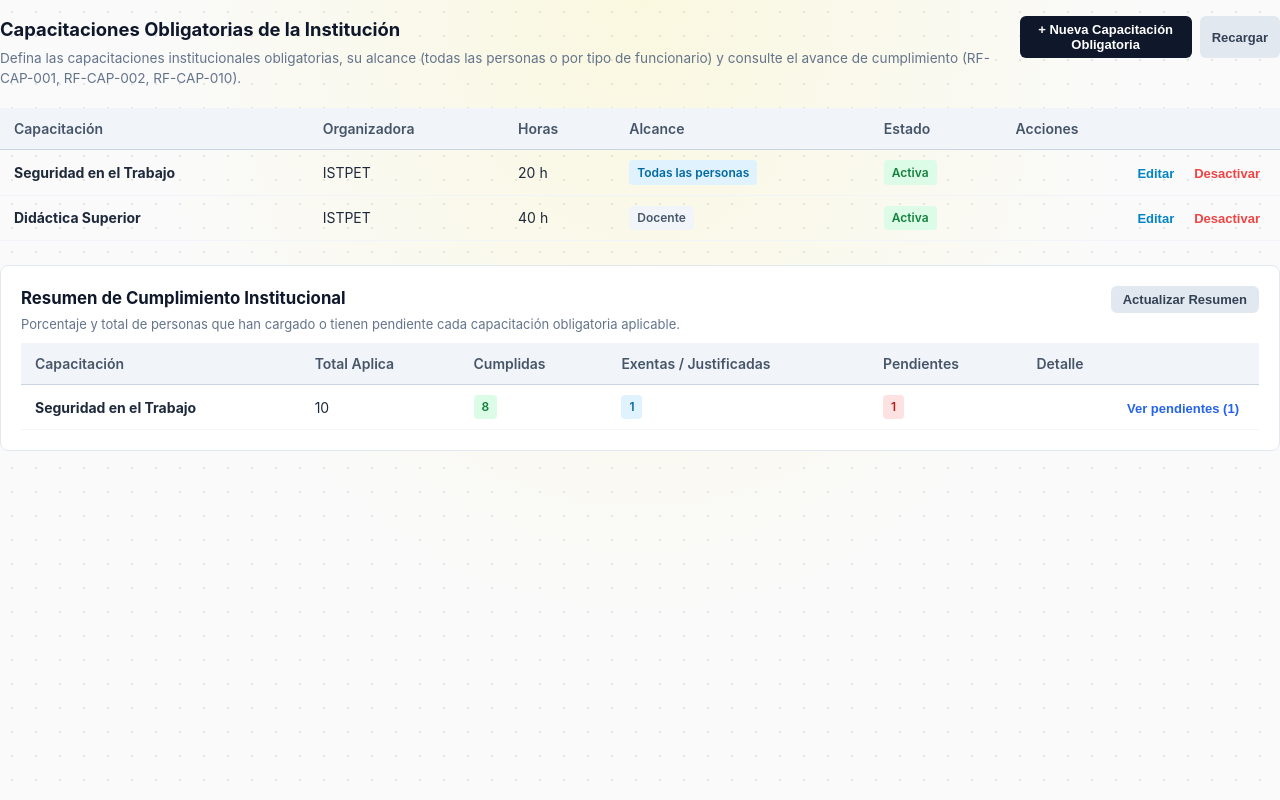
Test: CapacitacionesObligatoriasConfigComponent › resumen_de_cumplimiento_muestra_cifras_y_abre_modal_de_pendientes_RF_CAP_010
This screenshot has width=1280, height=800.
Expected: the table with test id "tabla-cumplimiento" is shown, [21,343,1259,430]
Click the button with test id "btn-ver-pendientes-ob-1". click: (1183, 408)
box: [1121,400,1245,416]
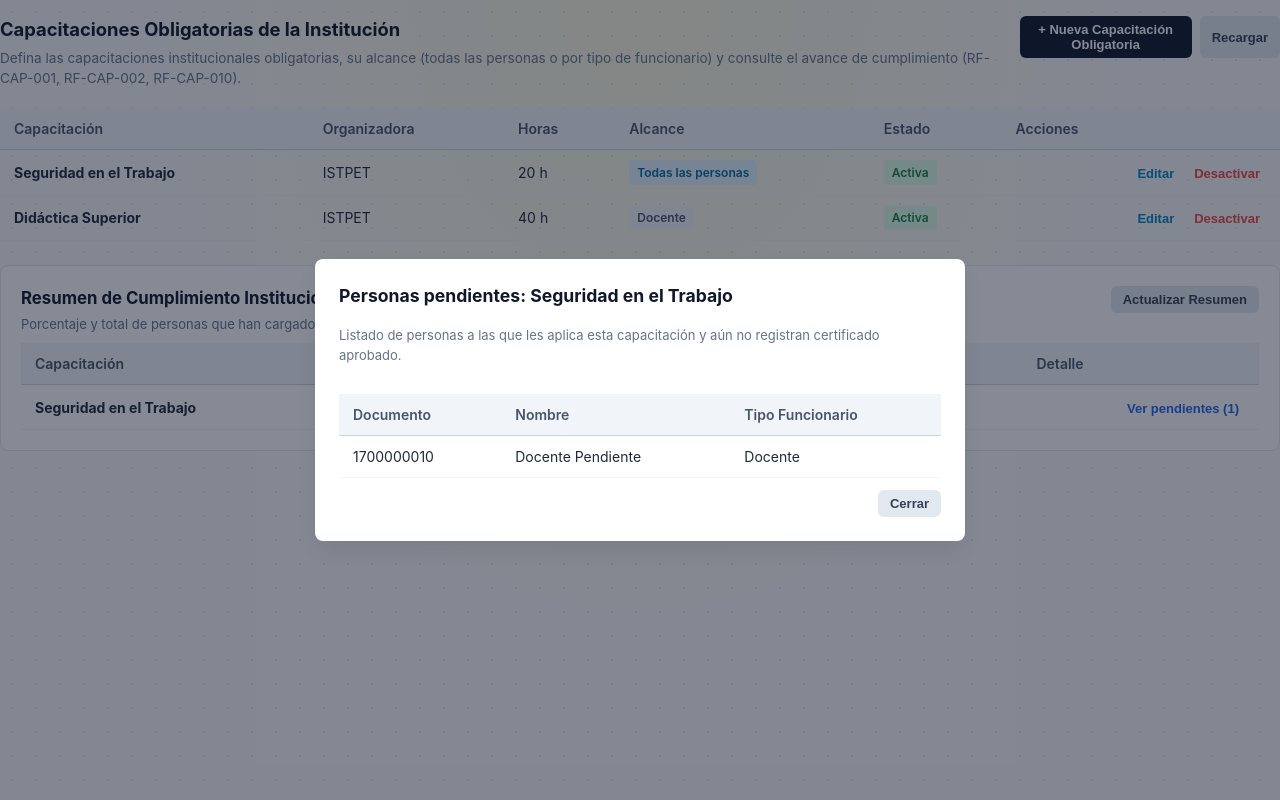
Result: the element with test id "modal-detalle-pendientes" is shown
